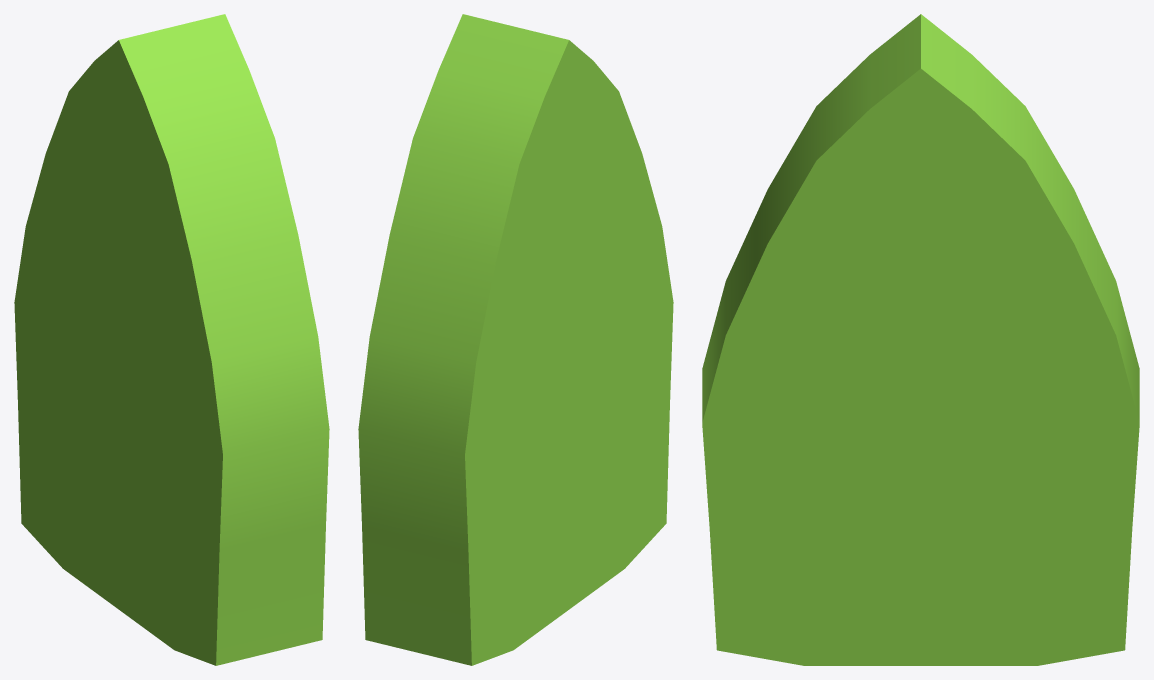
Rendered from WindowInner.dae.
3 renders of one model, left to right at view 1: azimuth 30°, elevation 25°; view 2: azimuth 150°, elevation 25°; view 3: azimuth 270°, elevation 25°, orthographic. The views are drawn at different scales.
Parts seen in each view (by area): view 1: WindowInner; view 2: WindowInner; view 3: WindowInner.
Boxes of the visible parts, <box> form: WindowInner: <box>14,14,329,665</box>; WindowInner: <box>358,14,673,665</box>; WindowInner: <box>702,14,1139,665</box>.
Bounding box in the file's own units: 0.9 × 3.05 × 4.6.
1 material, 1 textured.
